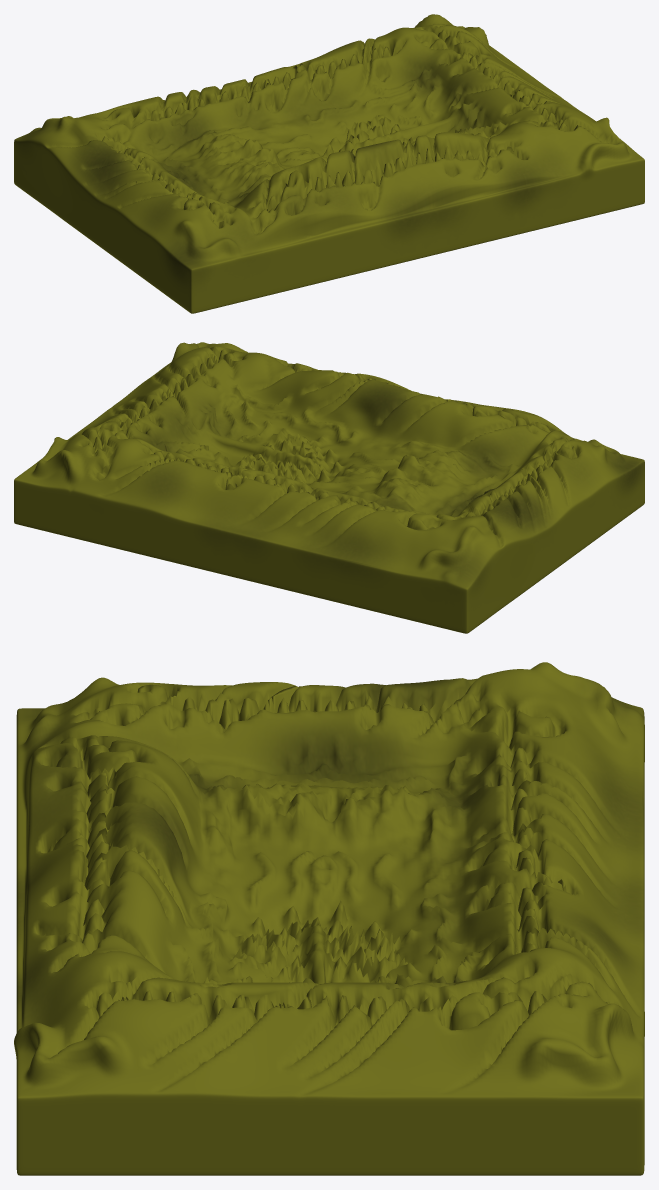
The model's file is LOTR_Card.fbx.
The picture shows the model from 3 angles, top to bottom: view 1: azimuth 30°, elevation 25°; view 2: azimuth 150°, elevation 25°; view 3: azimuth 270°, elevation 25°; orthographic projection. The views are drawn at different scales.
Parts seen in each view (by area): view 1: Card_2; view 2: Card_2; view 3: Card_2.
Boxes of the visible parts, <box> form: Card_2: <box>14,14,644,313</box>; Card_2: <box>14,342,644,633</box>; Card_2: <box>14,662,644,1175</box>.
Bounding box in the file's own units: 1257 × 241 × 856.
